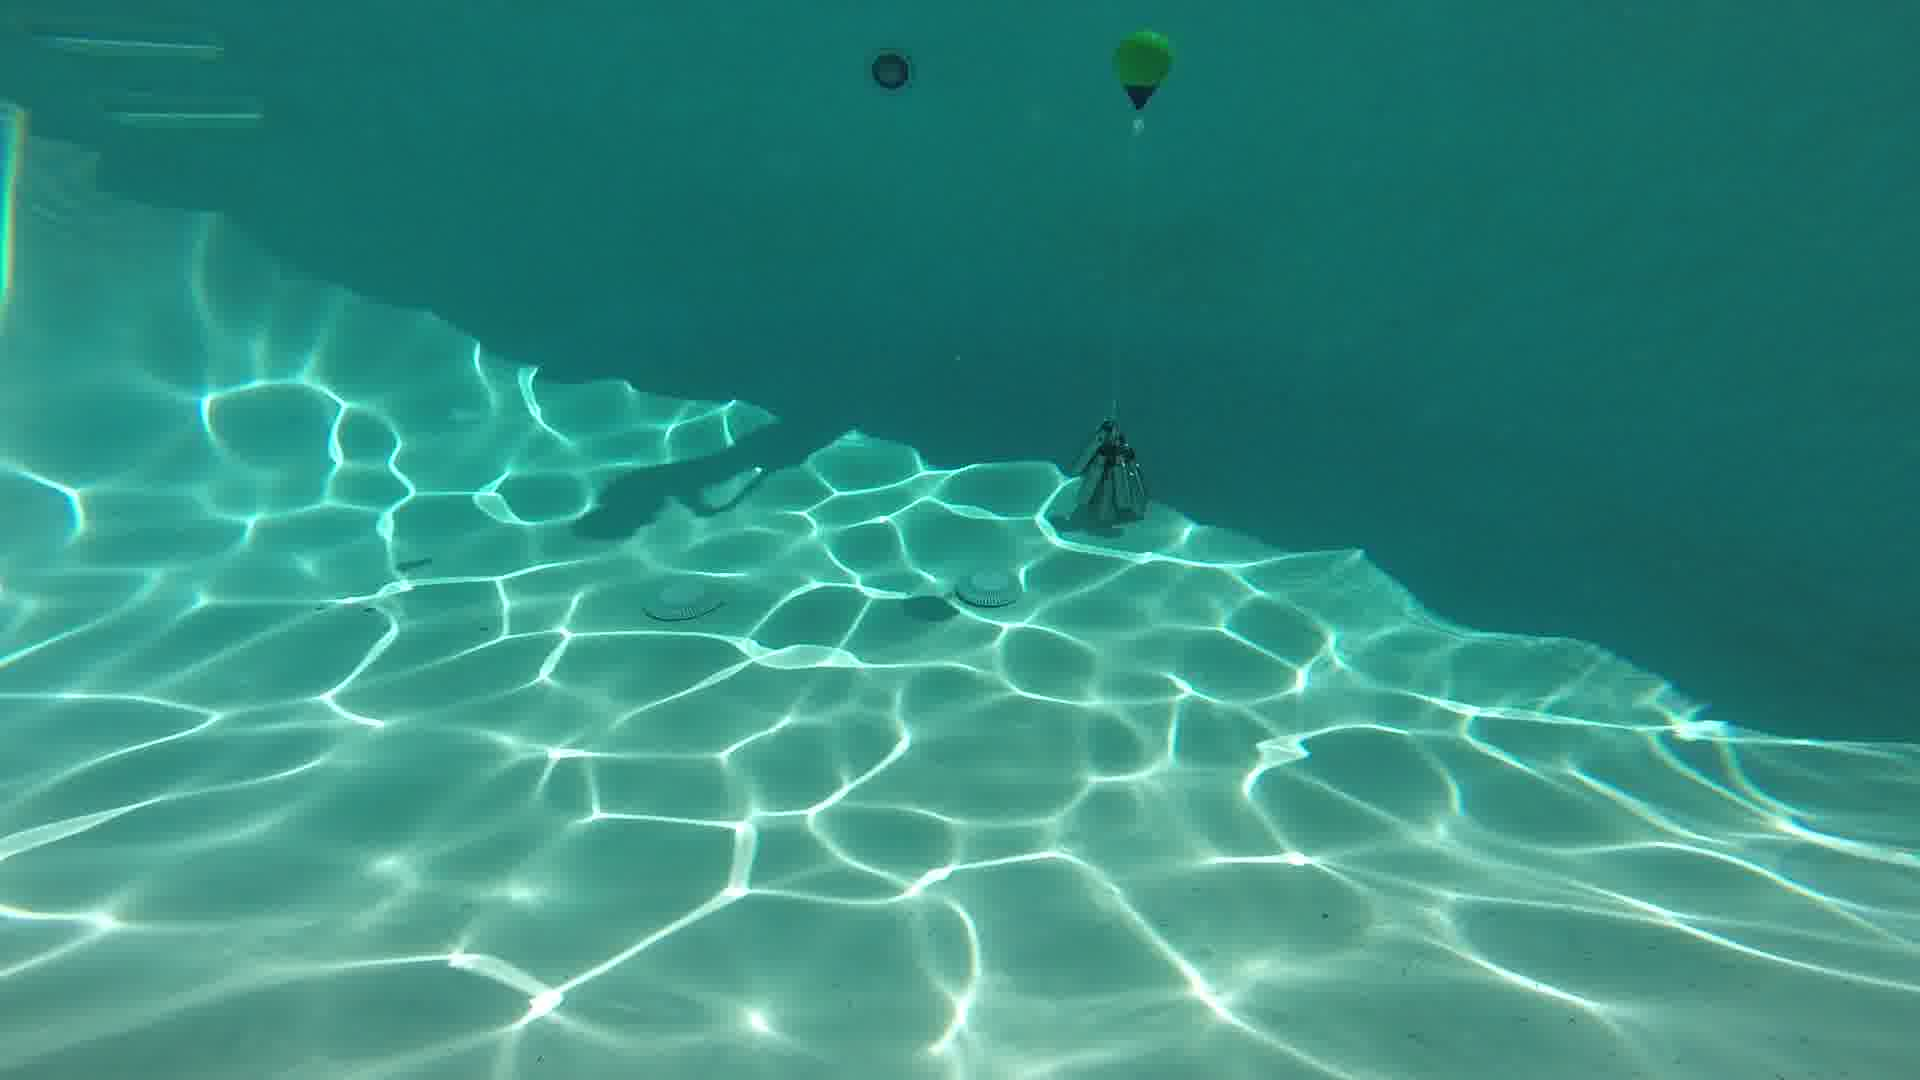yellow_buoy: (1117, 30, 1171, 109)
